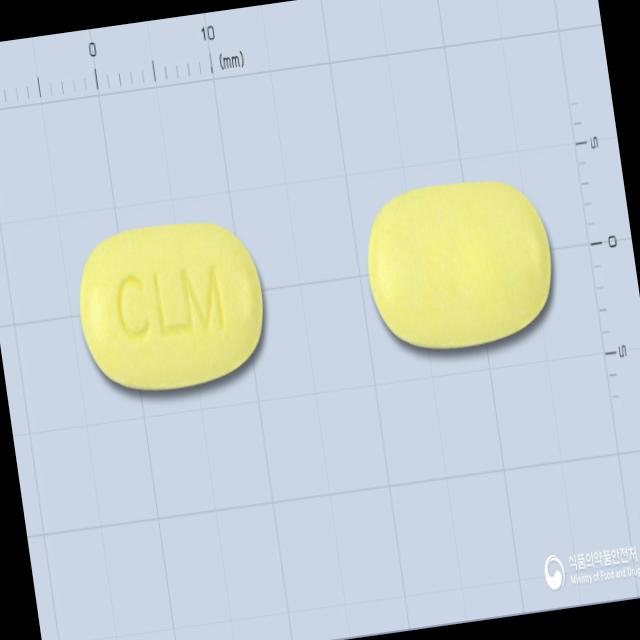Larith: (69, 211, 274, 401)
